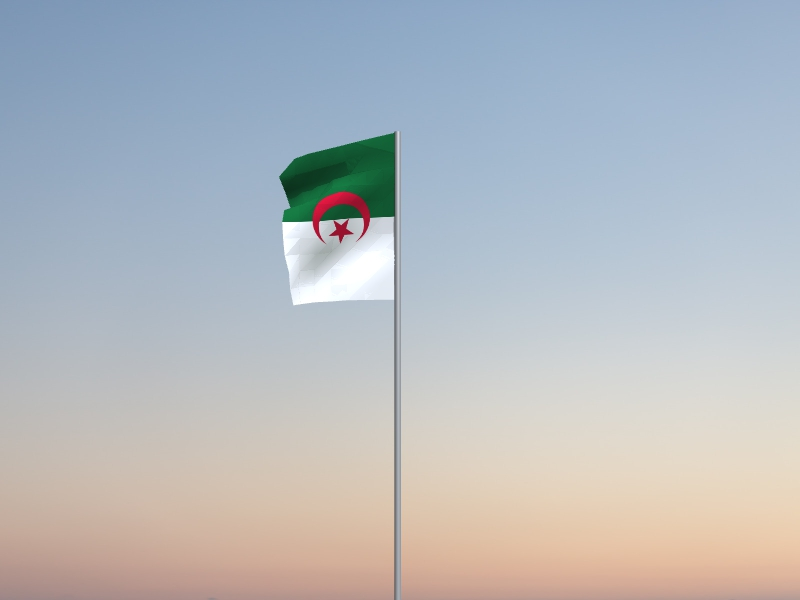dz: (279, 134, 395, 307)
